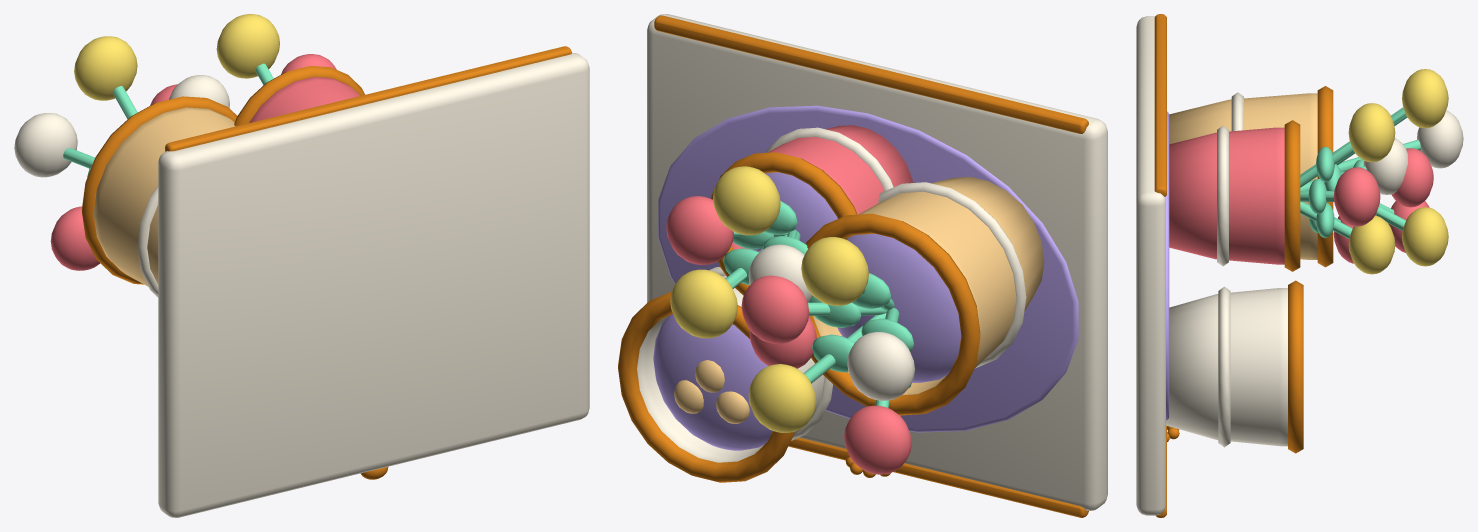
Rendered from GardenFlowerPots_Premium.fbx.
The picture shows the model from 3 angles, left to right: view 1: azimuth 30°, elevation 25°; view 2: azimuth 150°, elevation 25°; view 3: azimuth 270°, elevation 25°; orthographic projection. The views are drawn at different scales.
Visible parts, largest first — view 1: GardenFlowerPots; view 2: GardenFlowerPots; view 3: GardenFlowerPots.
Boxes of the visible parts, x1=… form: GardenFlowerPots: x1=14, y1=14, x2=589, y2=517; GardenFlowerPots: x1=618, y1=14, x2=1107, y2=517; GardenFlowerPots: x1=1136, y1=14, x2=1463, y2=517.
Size of the model in its own units: 0.82 by 0.7014 by 0.616.
